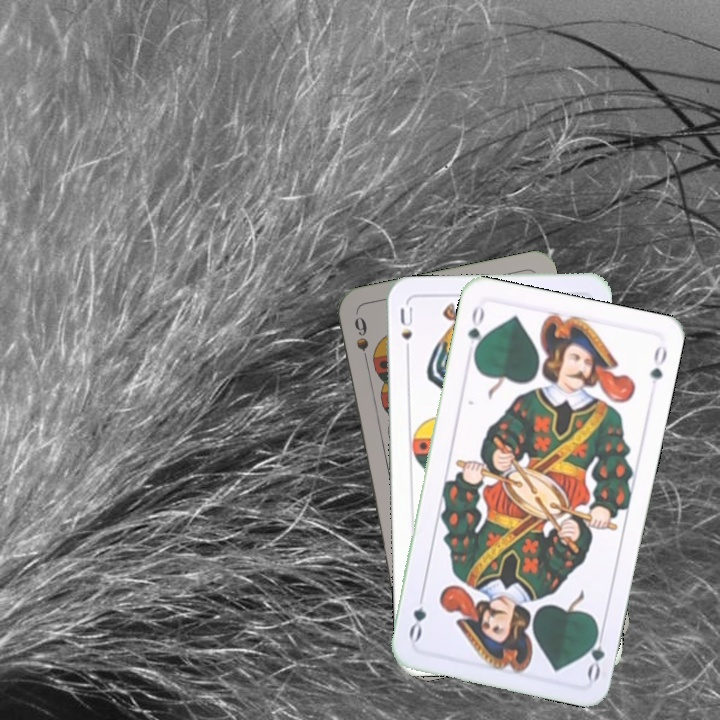GO: (582, 622, 608, 683), (463, 302, 487, 361)
S9: (350, 312, 372, 371)
SU: (396, 303, 415, 360)
